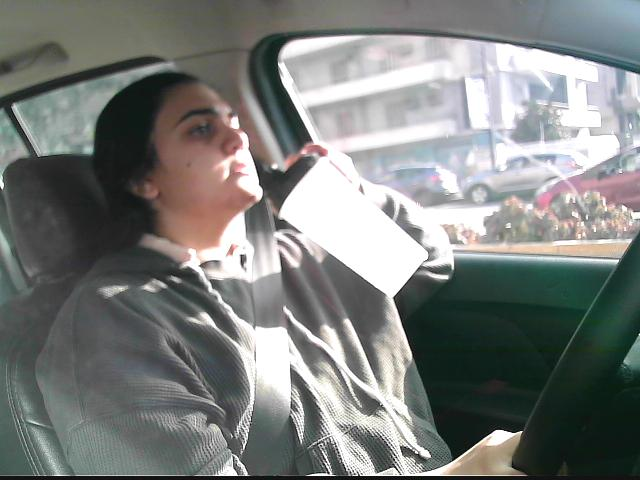Drinking: (261, 148, 431, 299)
